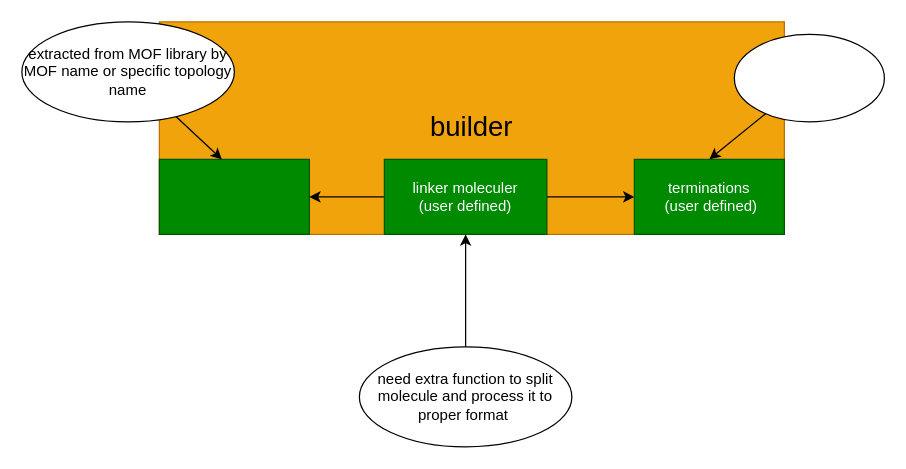
Image size: 906x469. Some labels were removed from this diagram. The shapes that lost their labels are listed below. From the top down, each one's box as (x1, y1, x2, y2) in pixels, then its label:
(733, 33, 884, 122): we can define a library
(158, 158, 309, 234): topology (define frame)
